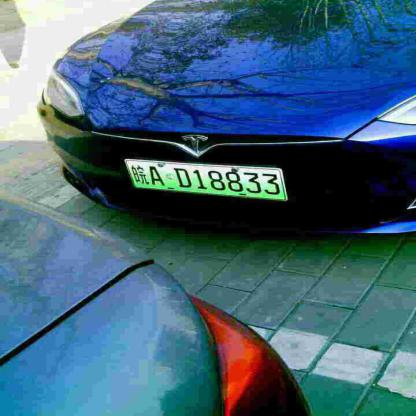lp: (126, 159, 286, 201)
